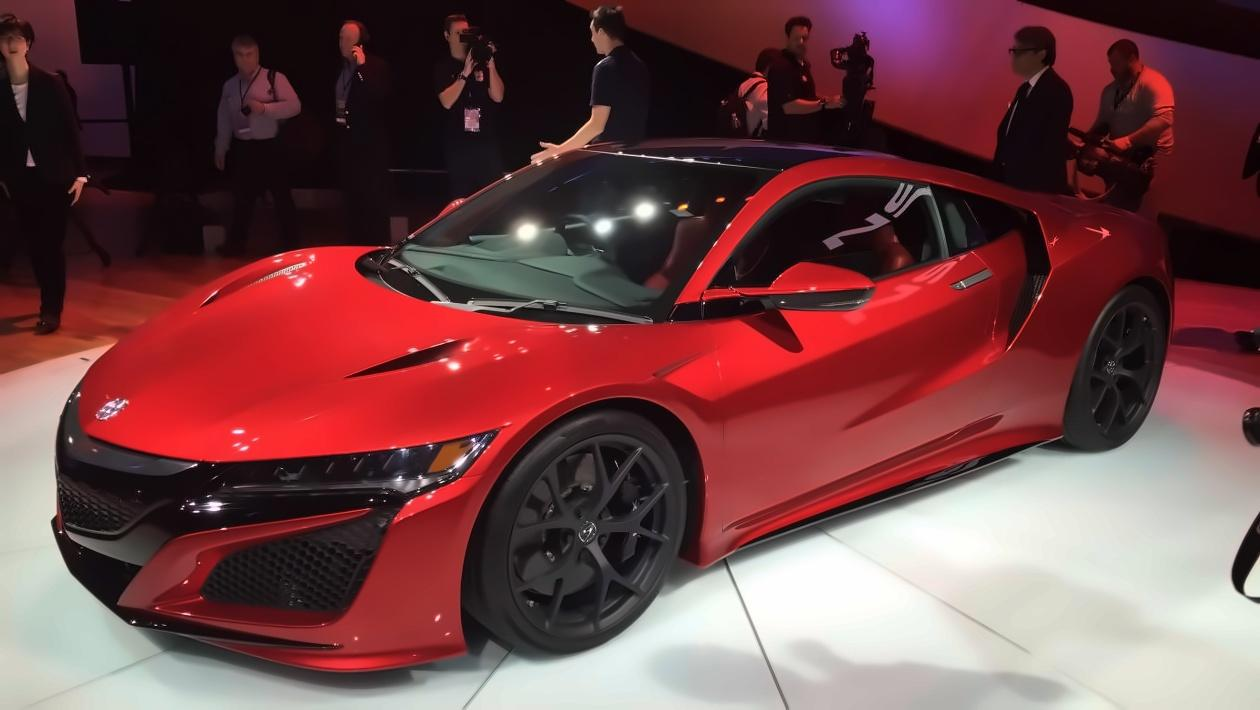Car hood: (69, 231, 672, 469)
Fender - -R-L-: (998, 189, 1198, 345)
Front bumper: (47, 432, 565, 675)
Headlight - -L-: (205, 423, 503, 514)
Passenger-s door - -F-L-: (683, 155, 1009, 560)
Side bumper - -L-: (693, 406, 1067, 578)
Side mirror - -L-: (695, 255, 876, 319)
